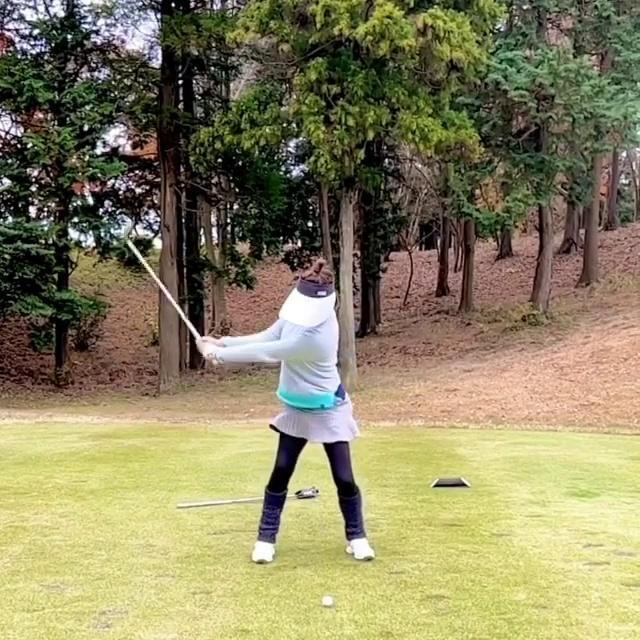golf ball: (322, 594, 336, 609)
golf club-handle: (124, 218, 219, 370)
golf club-head: (124, 219, 137, 237)
